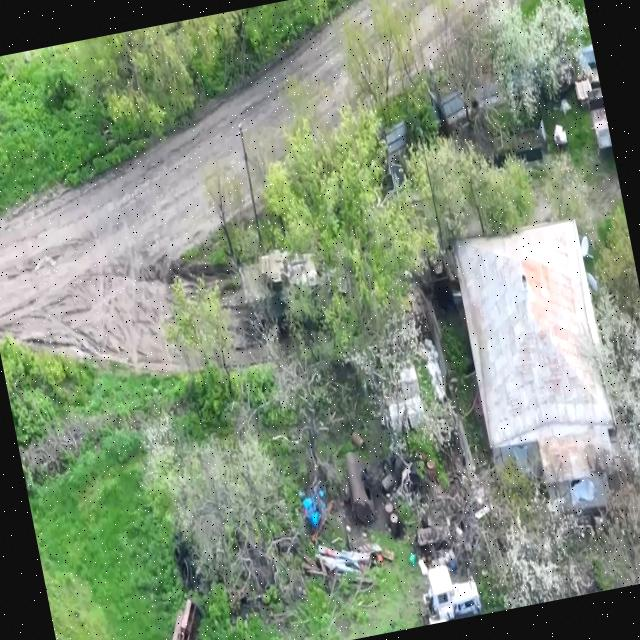APC: (237, 243, 328, 320)
